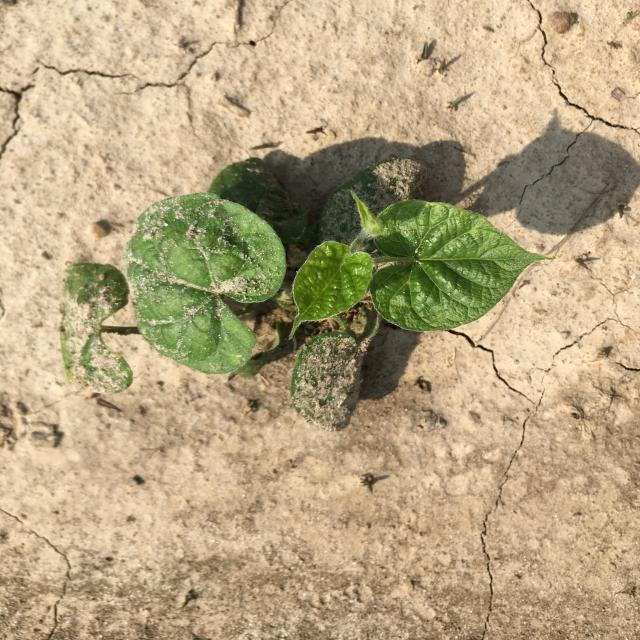MorningGlory: (61, 157, 554, 432)
